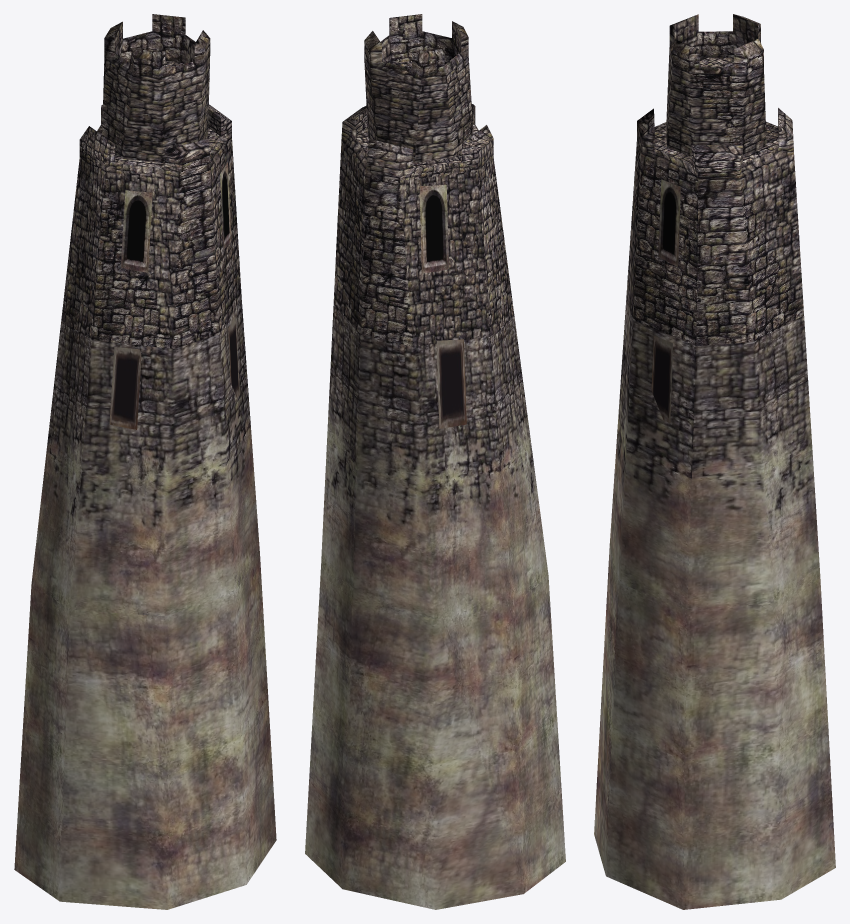
The model's file is fort_tower.fbx.
The picture shows the model from 3 angles, left to right: view 1: azimuth 30°, elevation 25°; view 2: azimuth 150°, elevation 25°; view 3: azimuth 270°, elevation 25°; orthographic projection.
Visible parts, largest first — view 1: khsmallfort1:large_tower7, khsmallfort1:windowFrame18, khsmallfort1:windowFrame15, khsmallfort1:windowFrame3, khsmallfort1:windowFrame20; view 2: khsmallfort1:large_tower7, khsmallfort1:windowFrame19, khsmallfort1:windowFrame16; view 3: khsmallfort1:large_tower7, khsmallfort1:windowFrame3, khsmallfort1:windowFrame20.
Boxes of the visible parts, box(x1,y1,x2,y2) form: khsmallfort1:large_tower7: box(14, 14, 276, 909); khsmallfort1:windowFrame18: box(109, 347, 141, 429); khsmallfort1:windowFrame15: box(120, 190, 152, 272); khsmallfort1:windowFrame3: box(220, 162, 231, 249); khsmallfort1:windowFrame20: box(228, 316, 239, 397); khsmallfort1:large_tower7: box(305, 14, 565, 909); khsmallfort1:windowFrame19: box(436, 339, 466, 428); khsmallfort1:windowFrame16: box(419, 184, 449, 273); khsmallfort1:large_tower7: box(594, 14, 835, 909); khsmallfort1:windowFrame3: box(658, 179, 680, 266); khsmallfort1:windowFrame20: box(651, 336, 672, 423).
Bounding box in the file's own units: 2914 × 10062 × 2663.
Materials: 3 (3 with a texture image).
